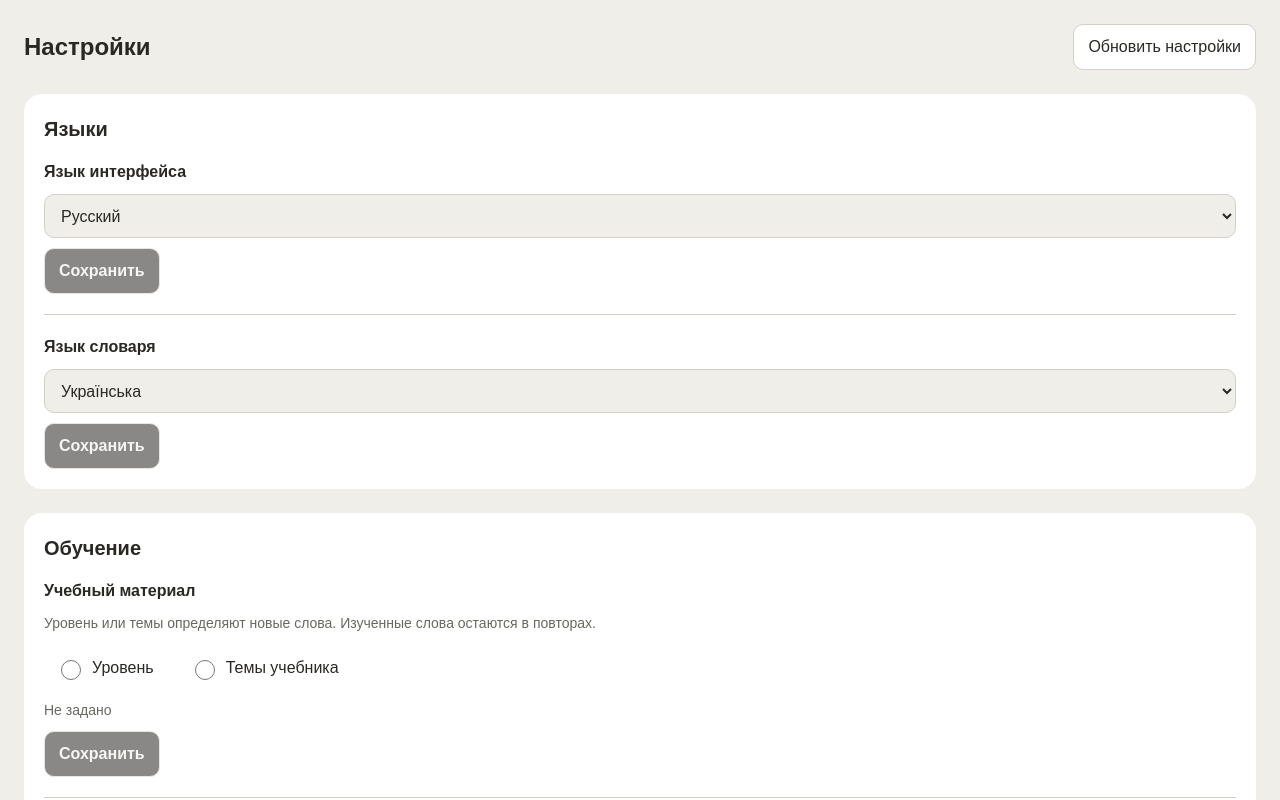
it: QA: drafts left in the owner when the language becomes chosen without a refusal › a draft of en made at version 1, then Settings re-read at version 2: the field is read-only, nothing invalid is shown, other fields save
Select "English" in the dropdown labelled "Язык словаря" at {"x": 640, "y": 391}, box [44,369,1236,413]
(page scrolled)
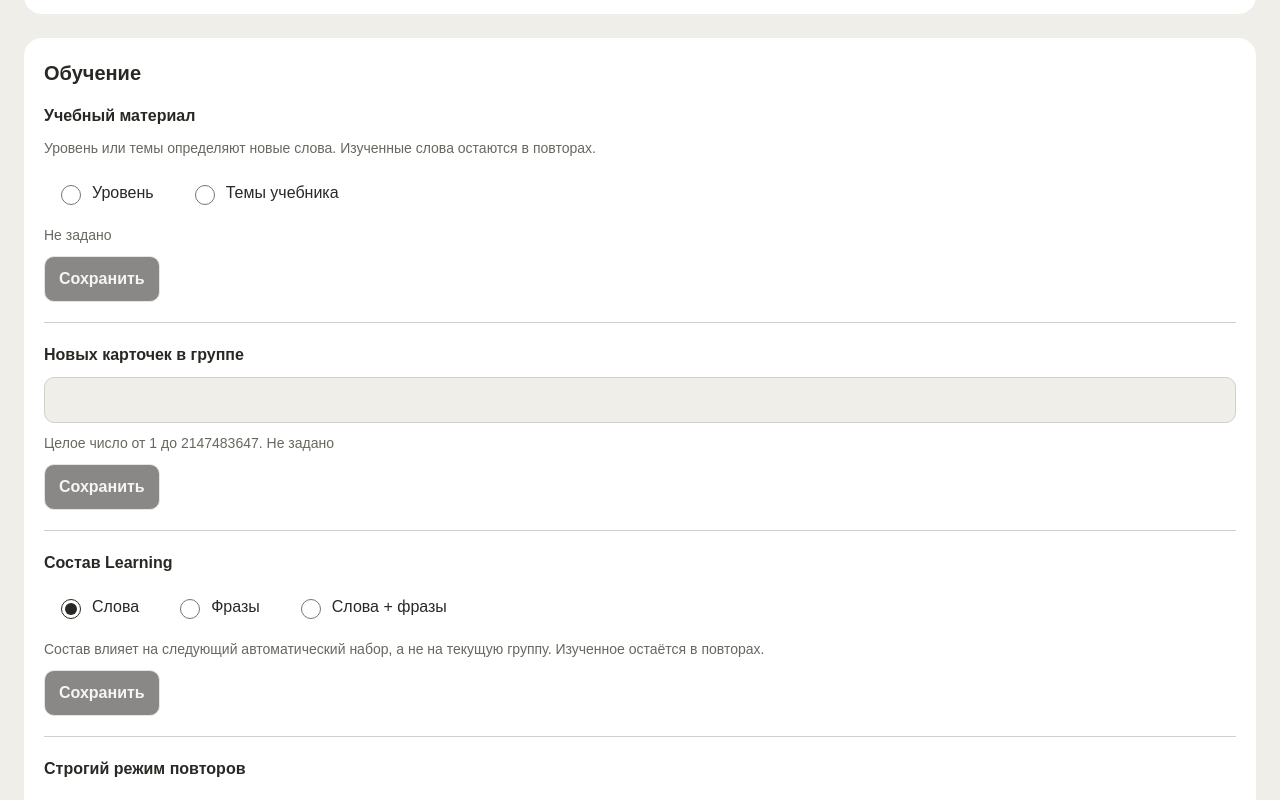
Type "7" into the field at {"x": 640, "y": 400}, box [44,377,1236,423]
(page scrolled)
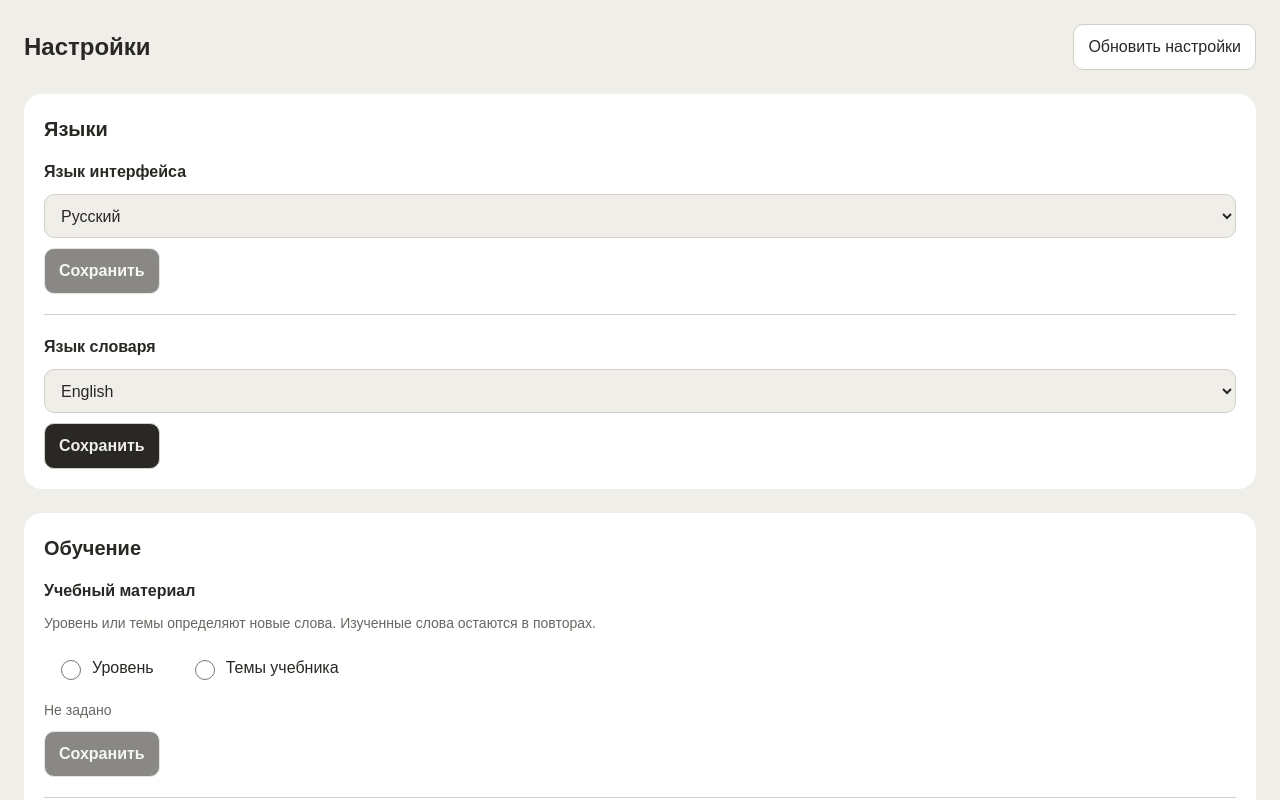
Click the button "Обновить настройки" at {"x": 1165, "y": 47}, box [1073,24,1256,70]
(page scrolled)
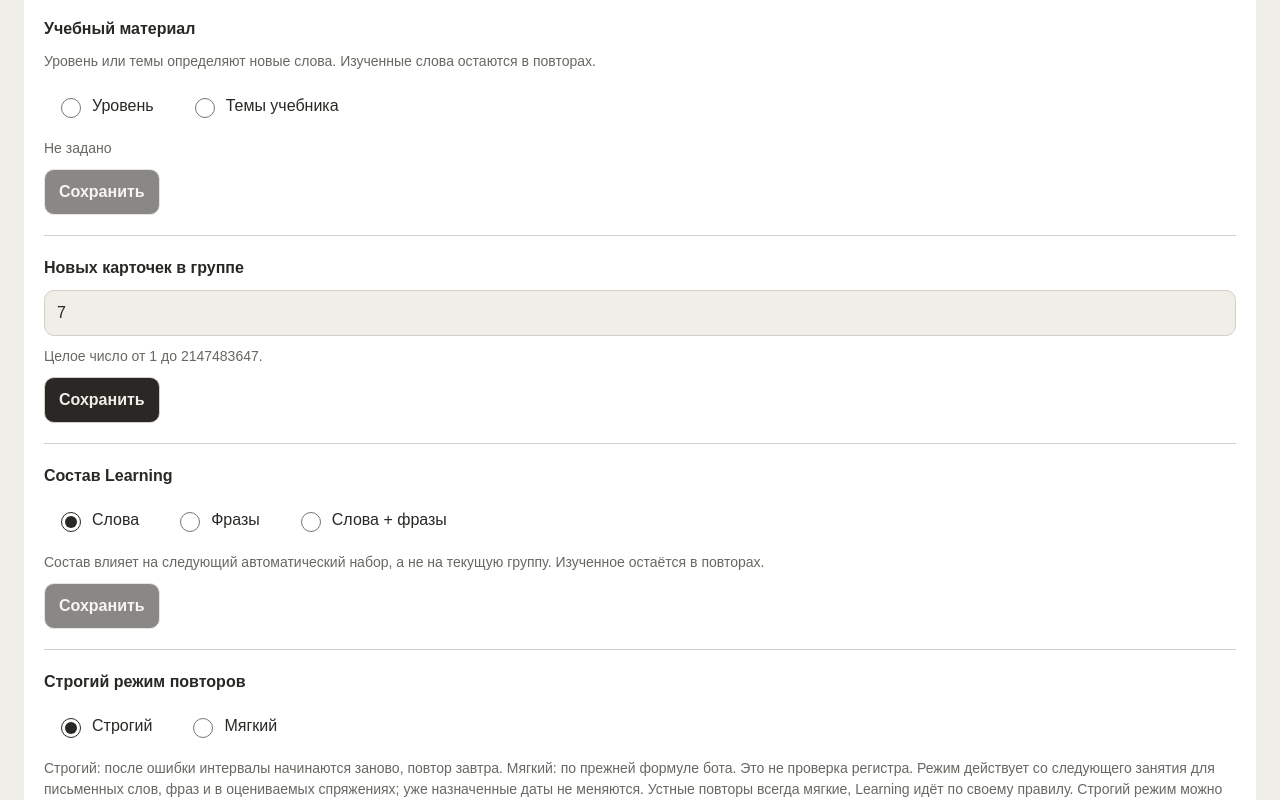
Now the button "Сохранить" below "Целое число от 1 до 2147483647." is enabled
Click the button "Сохранить" below "Целое число от 1 до 2147483647." at {"x": 102, "y": 400}, box [44,377,160,423]
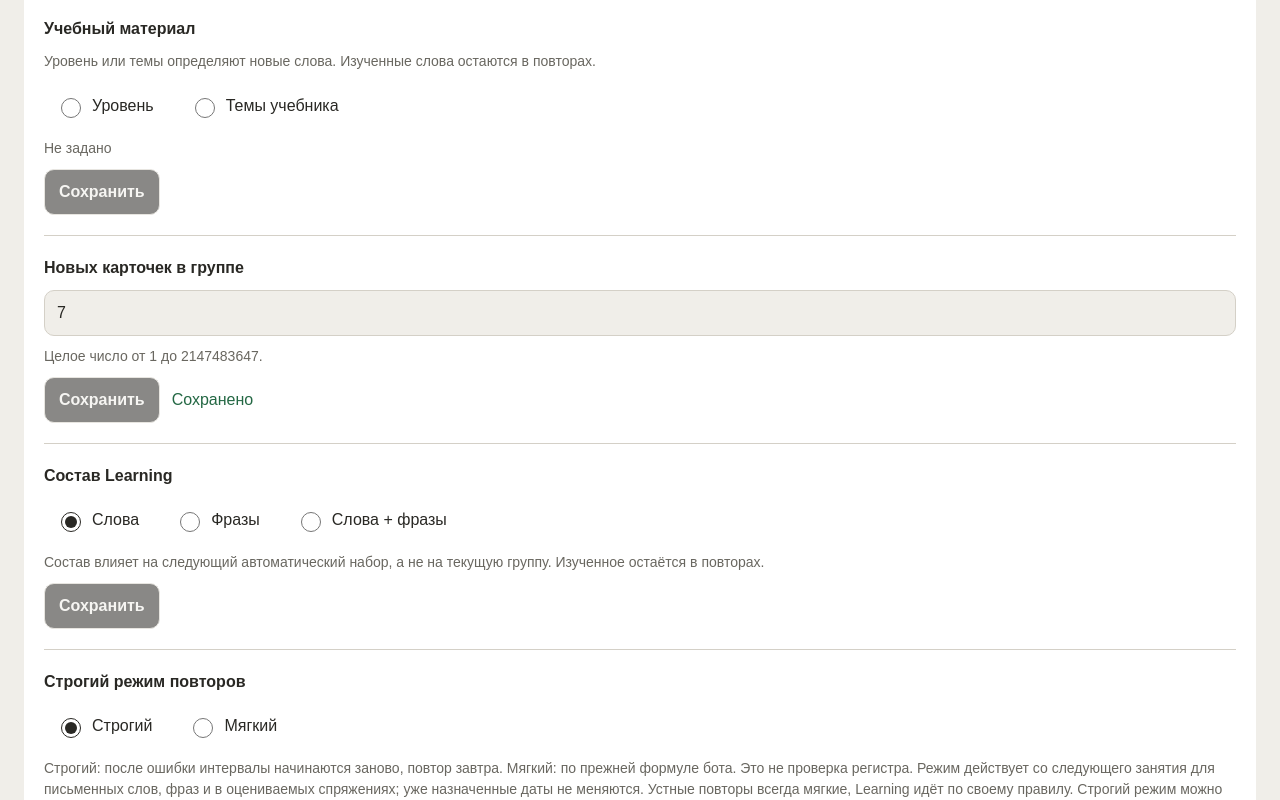
Now the text "Сохранено" is shown, box [172,388,253,412]
